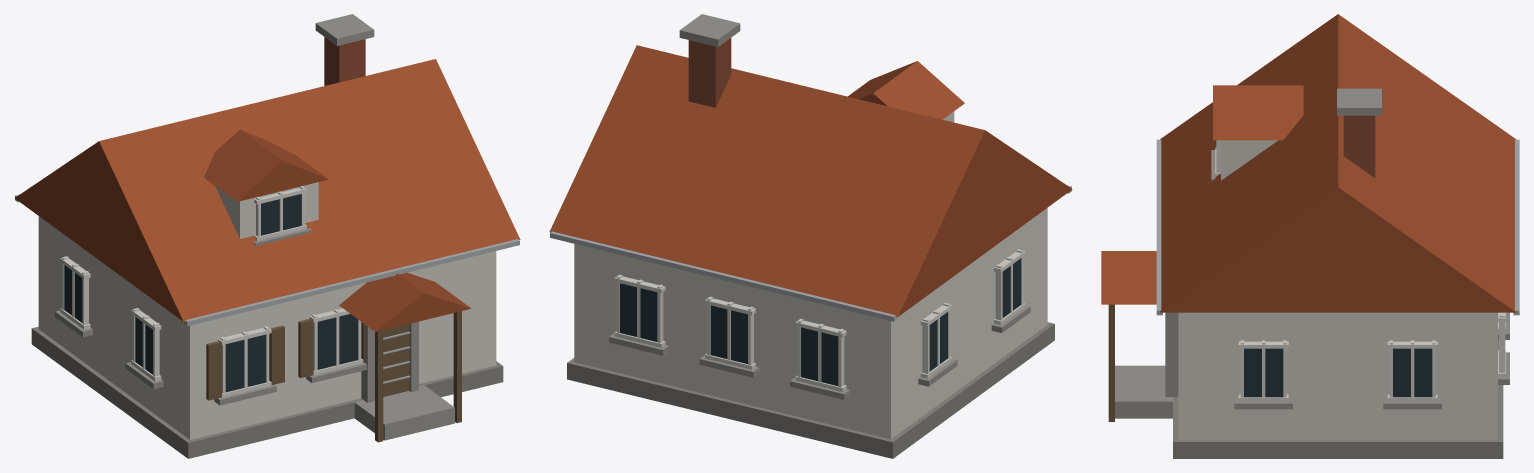
The model's file is Scenery_House_D.fbx.
3 renders of one model, left to right at view 1: azimuth 30°, elevation 25°; view 2: azimuth 150°, elevation 25°; view 3: azimuth 270°, elevation 25°, orthographic. The views are drawn at different scales.
Parts seen in each view (by area): view 1: Scenery_House_D_LOD0; view 2: Scenery_House_D_LOD0; view 3: Scenery_House_D_LOD0.
Boxes of the visible parts, <box> form: Scenery_House_D_LOD0: <box>15,14,520,458</box>; Scenery_House_D_LOD0: <box>549,14,1072,458</box>; Scenery_House_D_LOD0: <box>1101,14,1519,458</box>.
Size of what is drawn, in the model's own units: 7.7 by 6.73 by 7.86.
